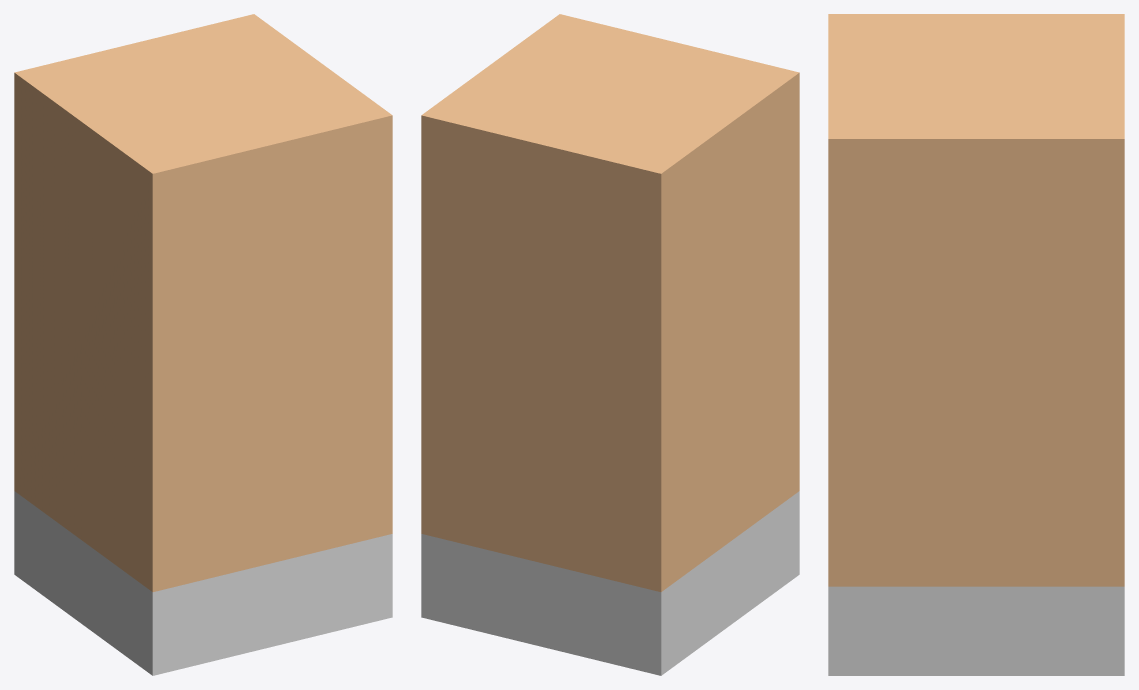
The model's file is JAMIE_LEG_BOTTOM.obj.
The picture shows the model from 3 angles, left to right: view 1: azimuth 30°, elevation 25°; view 2: azimuth 150°, elevation 25°; view 3: azimuth 270°, elevation 25°; orthographic projection. The views are drawn at different scales.
Size of the model in its own units: 0.3 by 0.6 by 0.3.
1 material, 1 textured.
